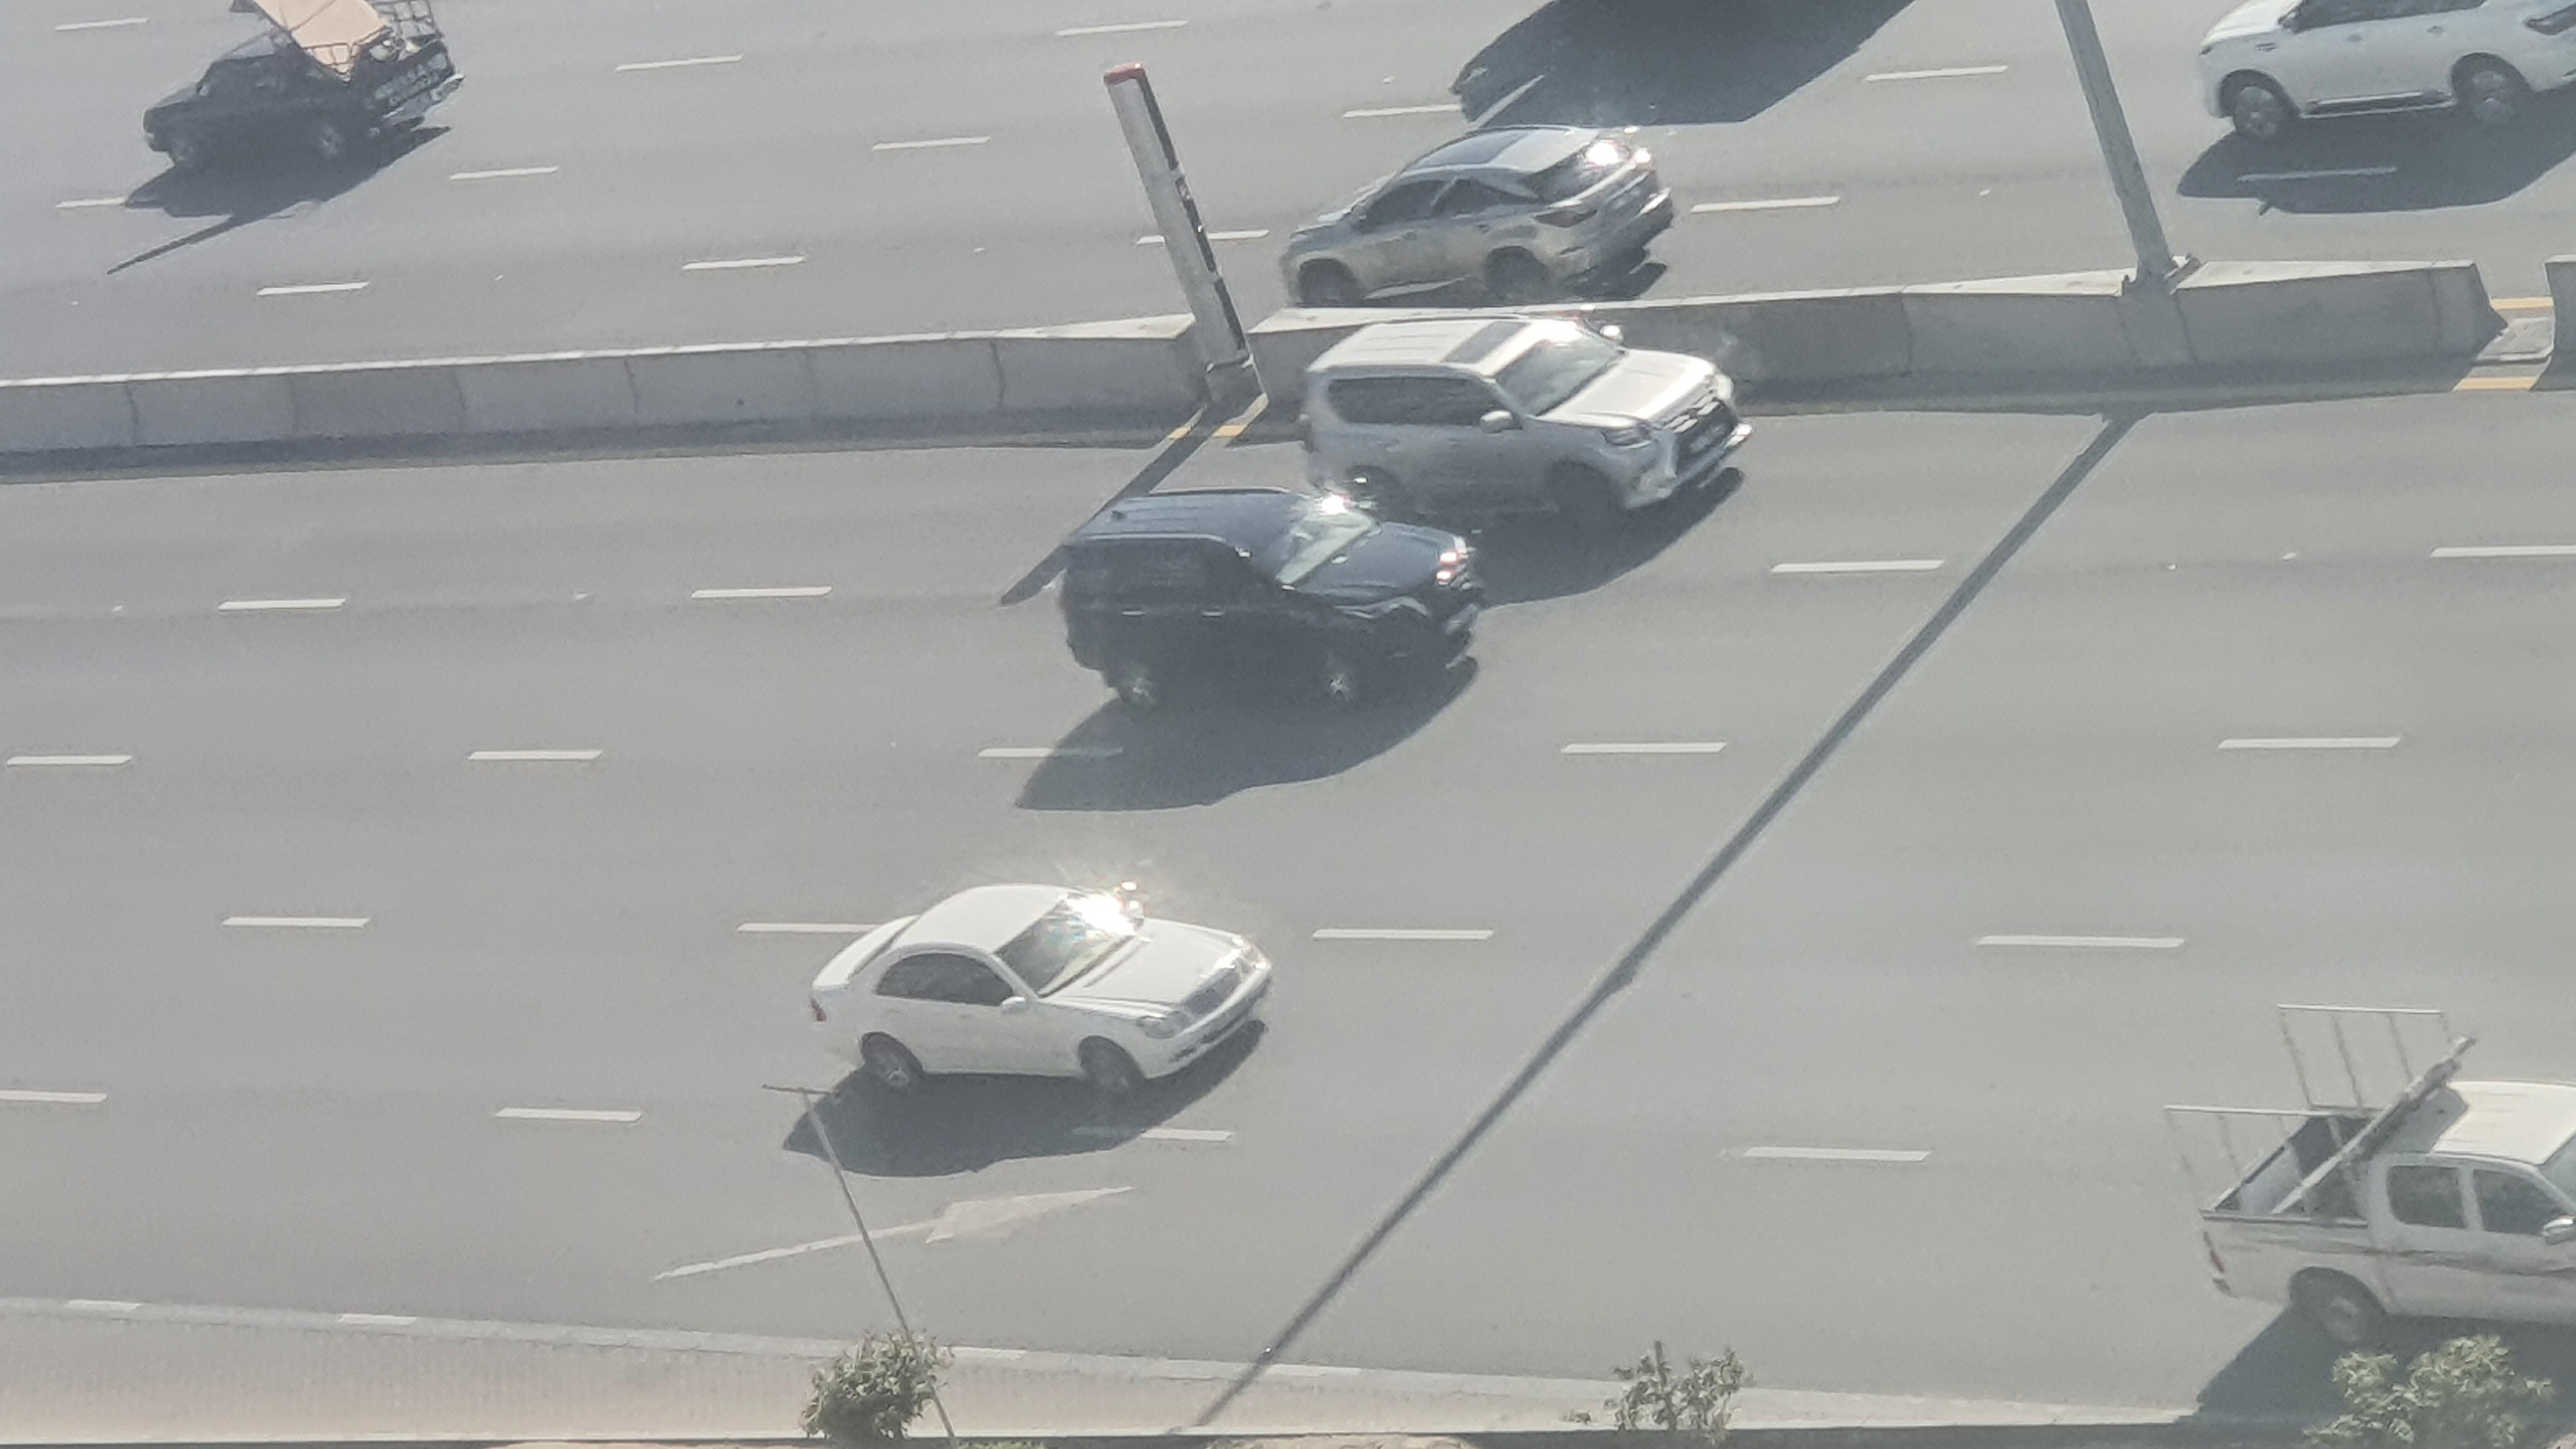NotSunroof: (800, 872, 1270, 1102), (1042, 485, 1484, 708)
Sunroof: (1299, 322, 1759, 533)
